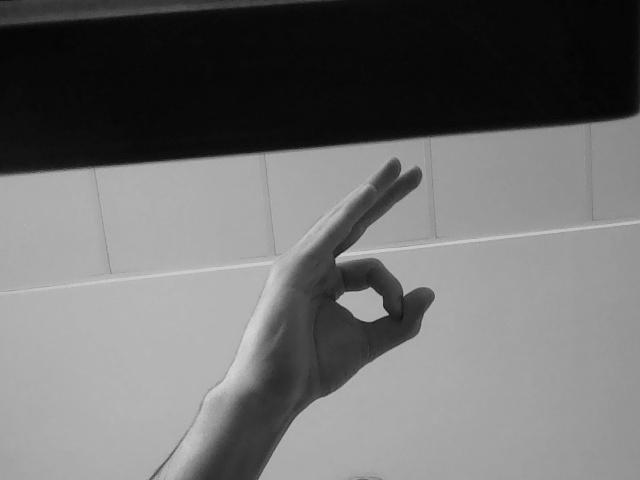OK: (223, 172, 495, 396)
